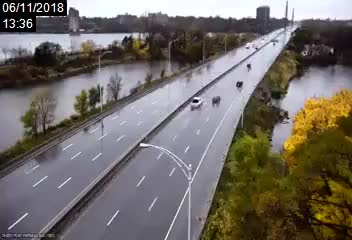personal_car: (188, 94, 204, 110), (211, 94, 221, 105), (235, 79, 243, 89), (246, 63, 251, 68)
